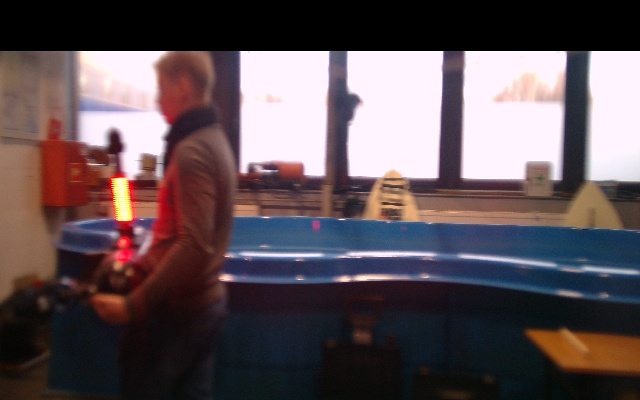red: (109, 175, 133, 229)
